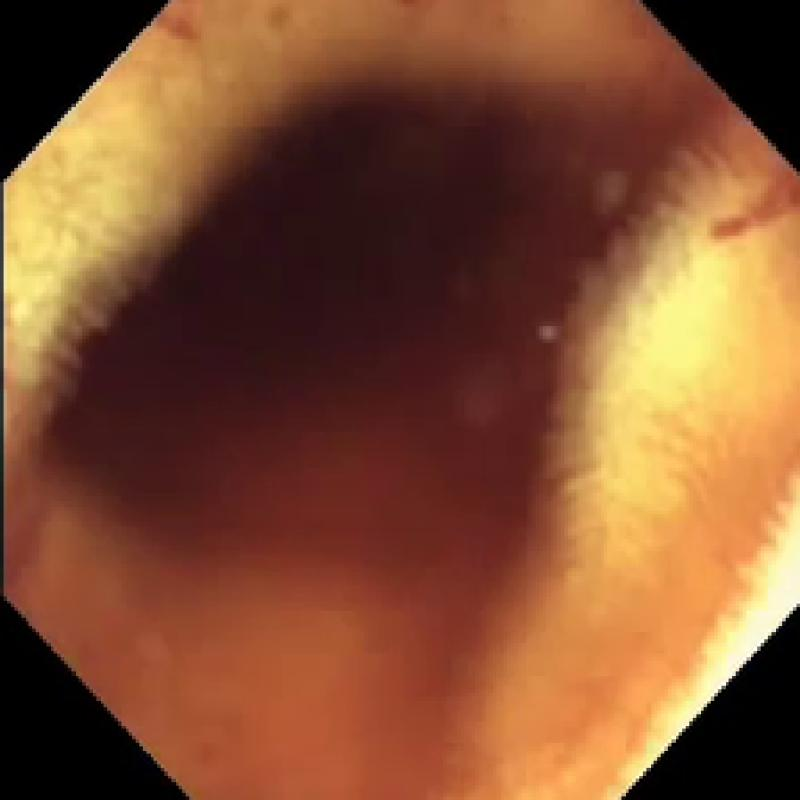bleeding: (0, 93, 800, 800), (168, 7, 200, 43)
